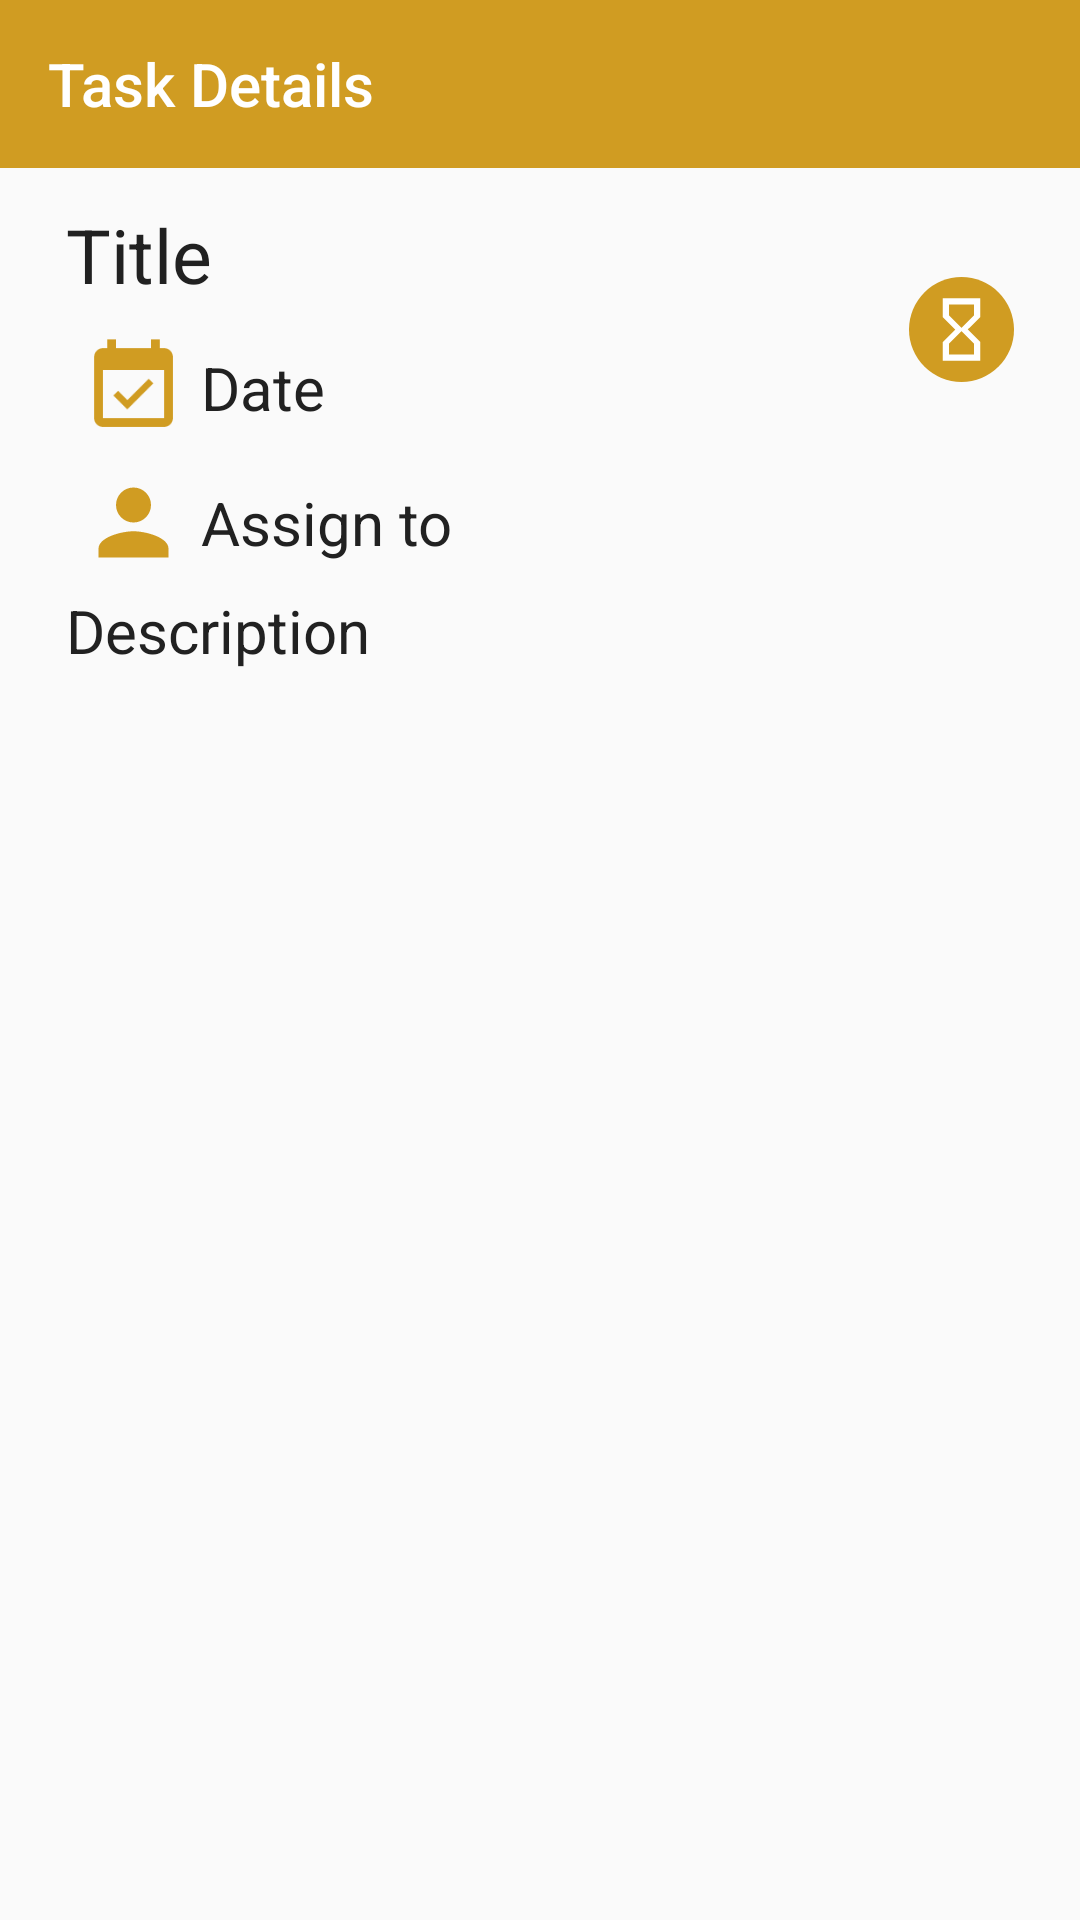

Icon click points for this 1080×1920 phone screenshot, format (x=x, y=y):
event: (x=133, y=383)
hourglass: (x=961, y=329)
person: (x=133, y=522)
